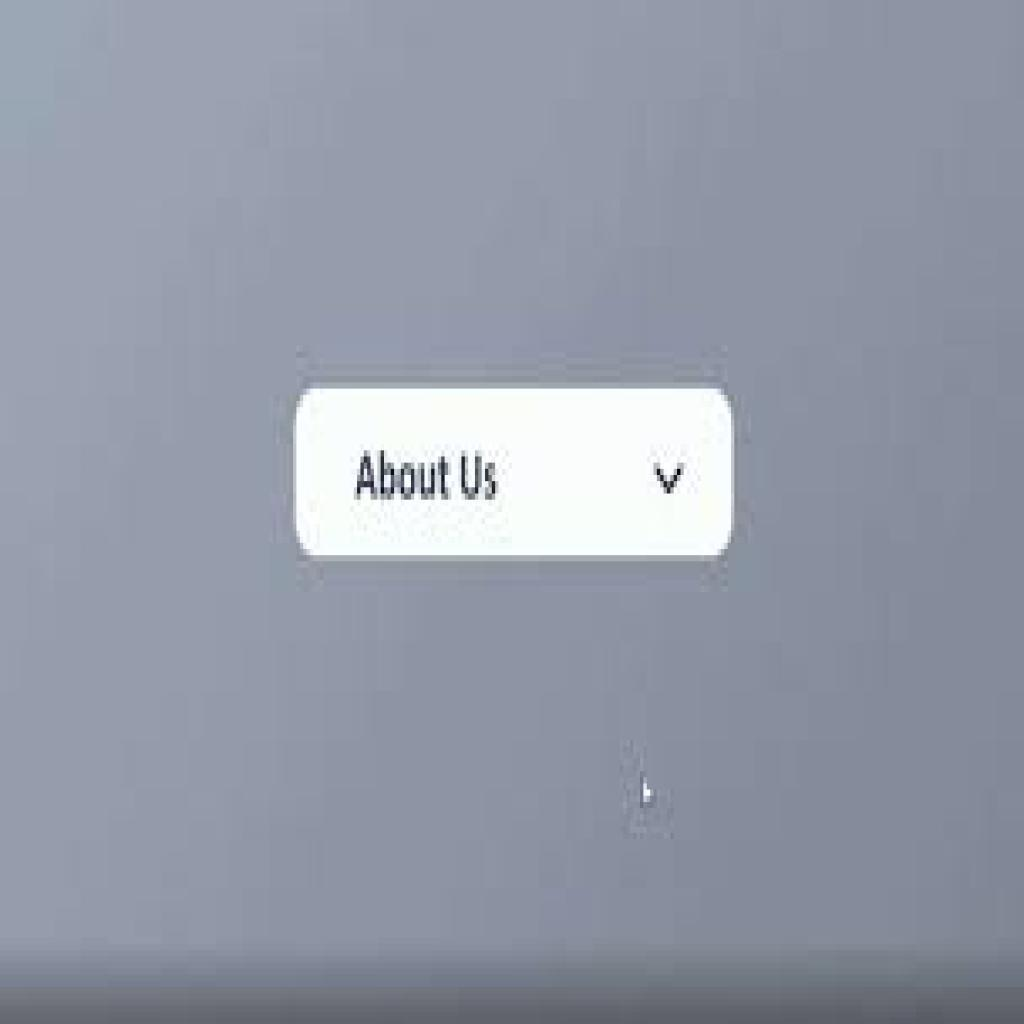dropdown: (291, 380, 737, 561)
